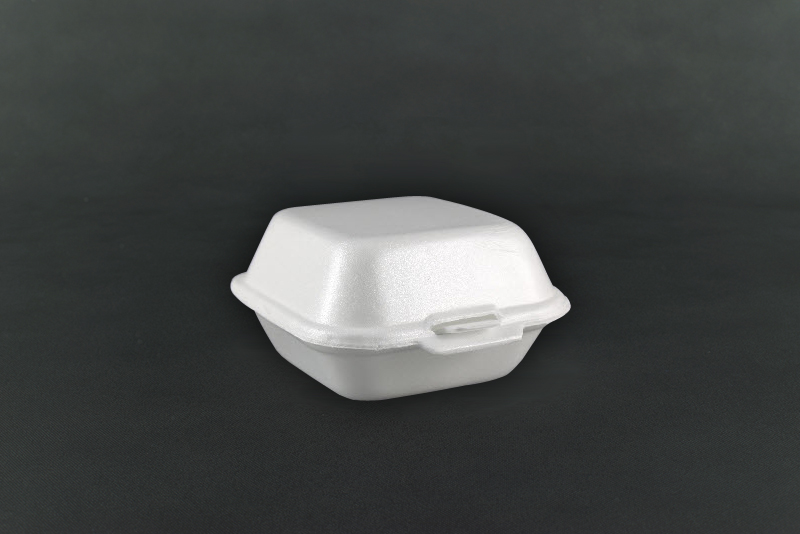Foam Box: (224, 187, 579, 408)
